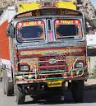truck: (1, 1, 88, 105)
